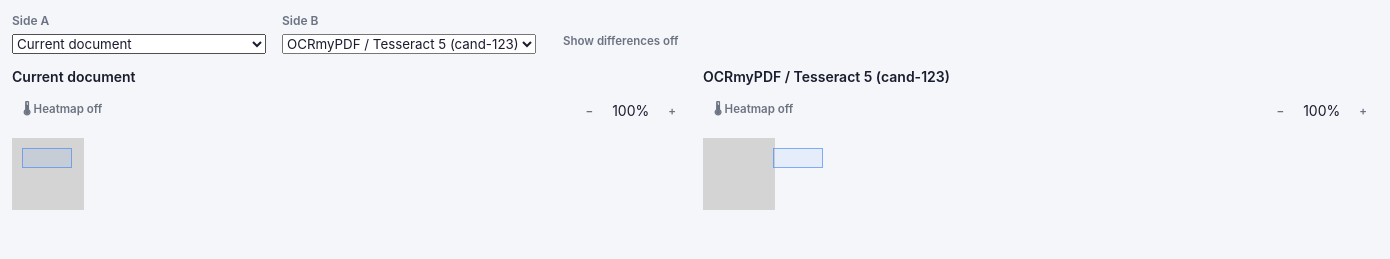
Test case: OcrOverlayComparisonPanel › computes and applies a diff overlay when "Show differences" is toggled on
Step 1. Click the button "Show differences off" → (621, 41), box [552,28,689,54]
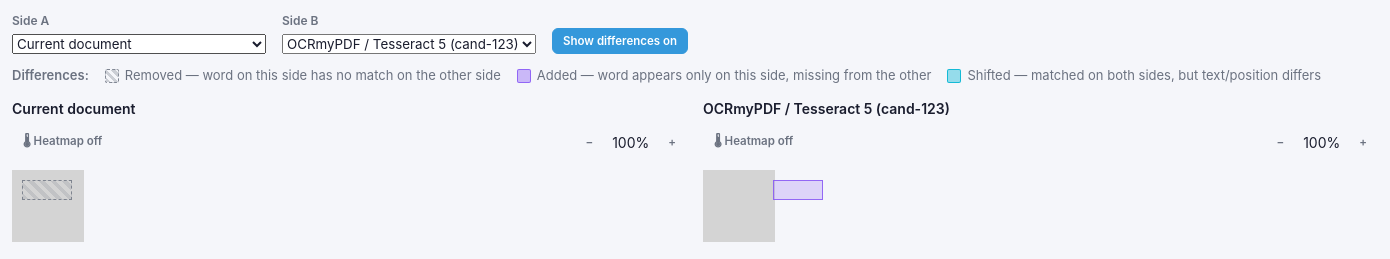
Expected: the element named "Difference highlight legend" is shown, [12,66,1378,86]
